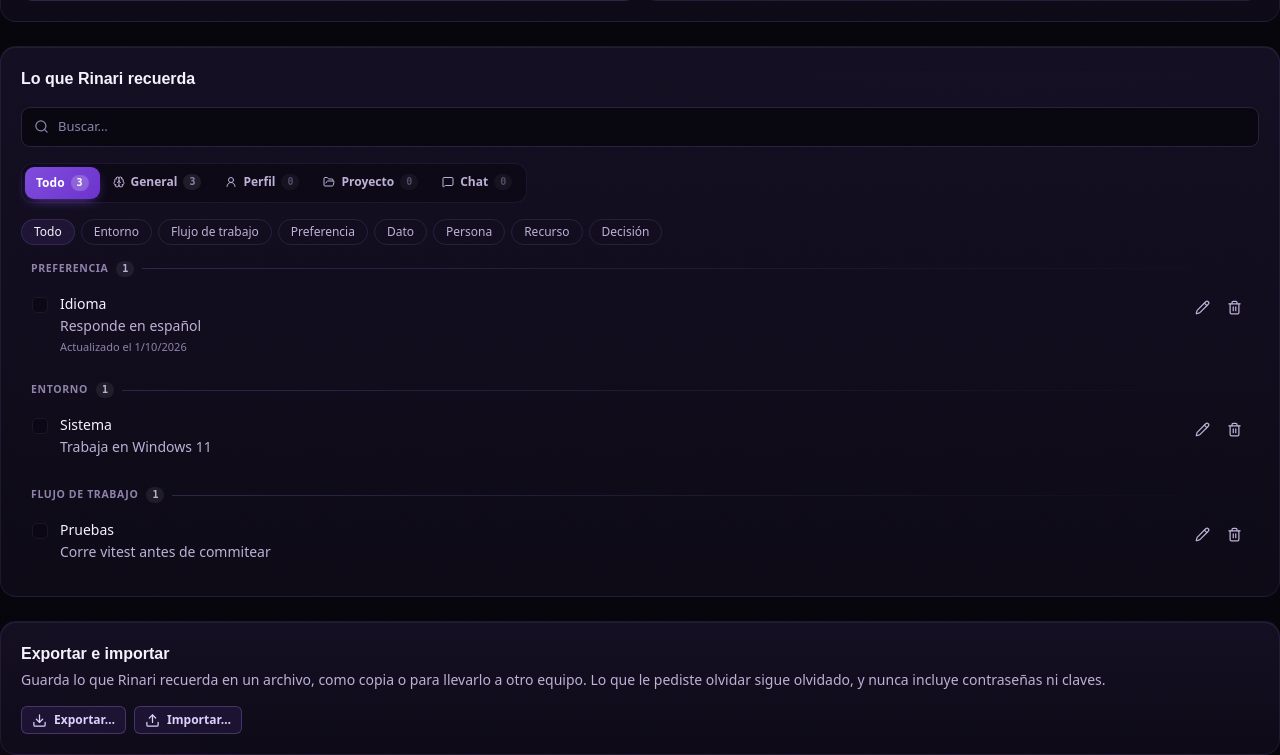
Test: edita con concurrencia optimista y, ante un conflicto, relee la versión actual
(page scrolled)
Click the button named "Editar «Sistema»".
click(1202, 429)  # box [1188,415,1216,443]
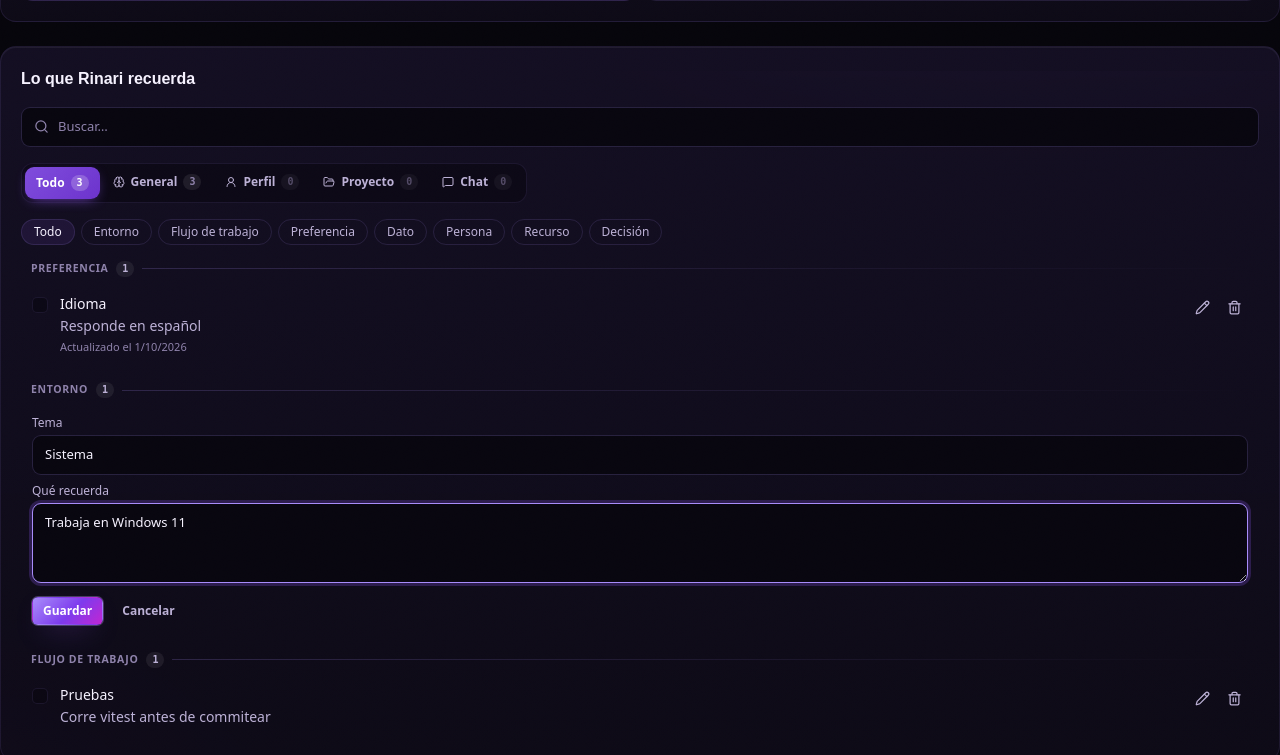
Replace the text in the text box labelled "Qué recuerda" with "Trabaja en Linux" at (640, 542), box [32,502,1248,582]
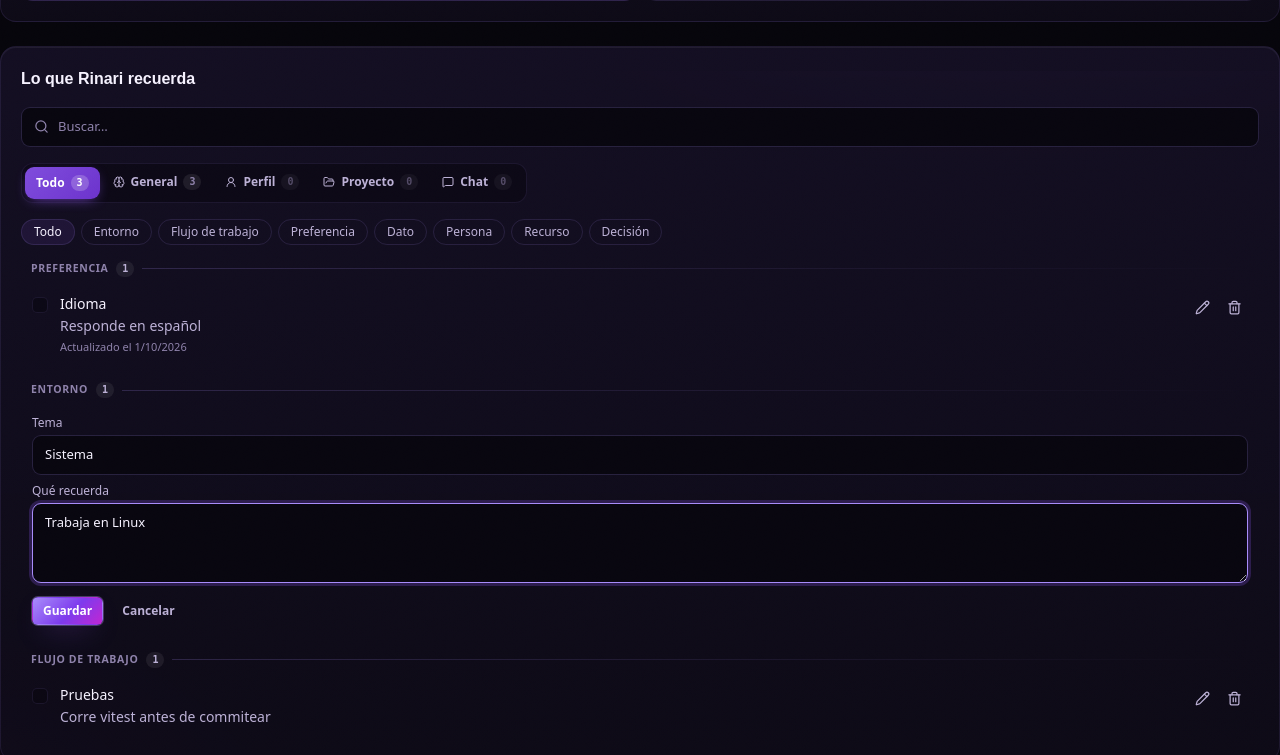
Click the button "Guardar".
click(68, 610)  # box [32,596,103,624]
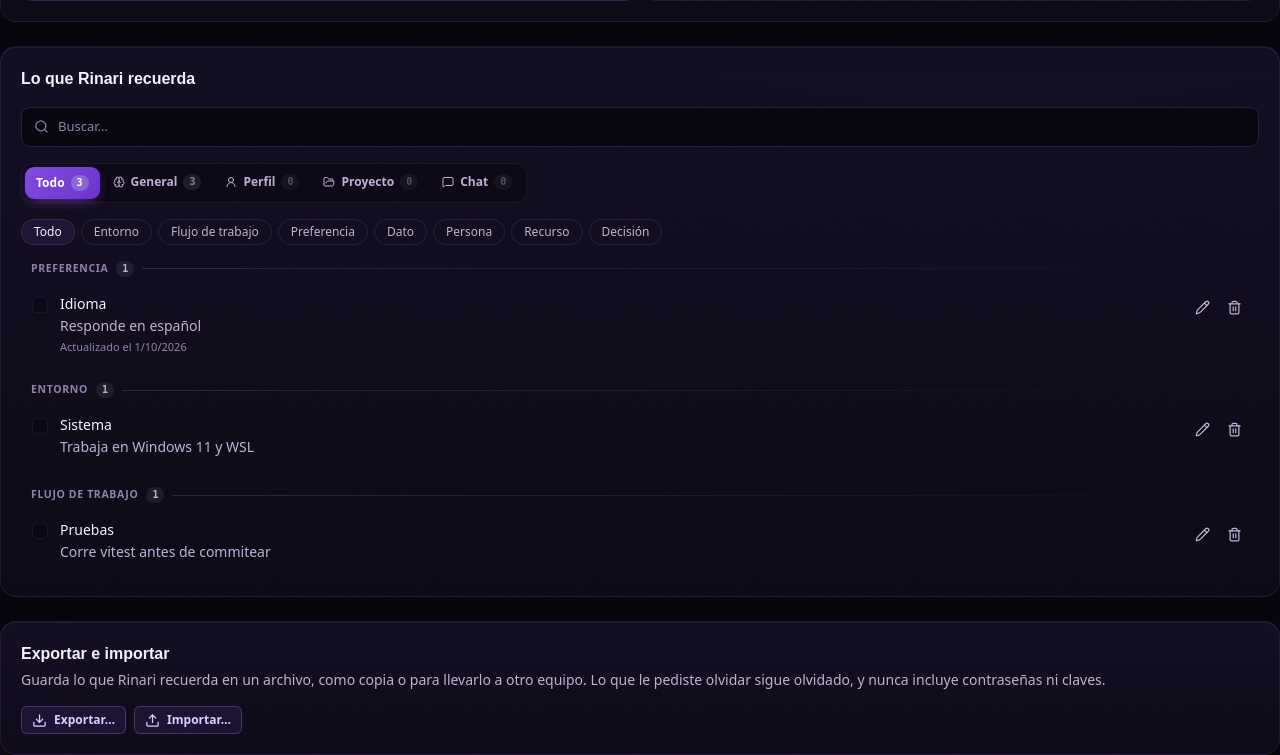
Check: the text "Trabaja en Windows 11 y WSL" is shown, box [60,437,254,456]
